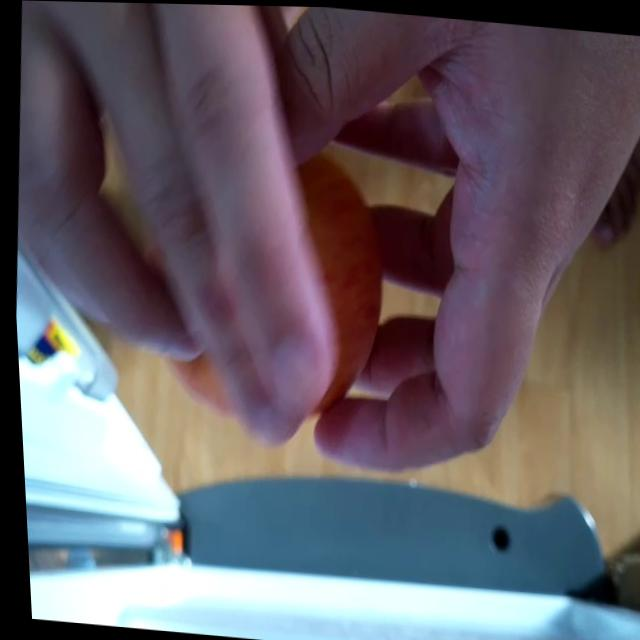apple: (158, 136, 391, 433)
